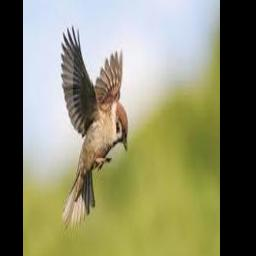Sparrow: (62, 26, 128, 230)
